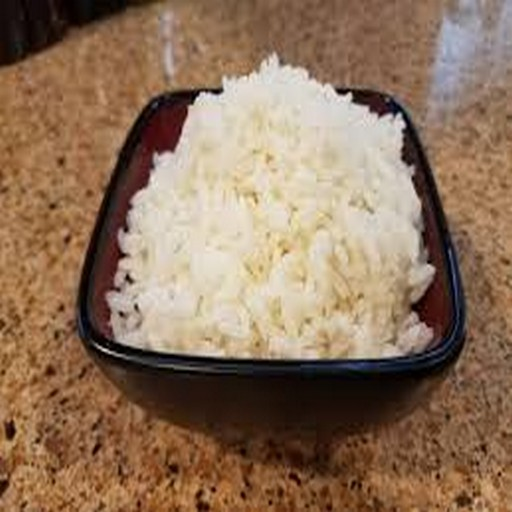rice: (222, 132, 356, 311)
